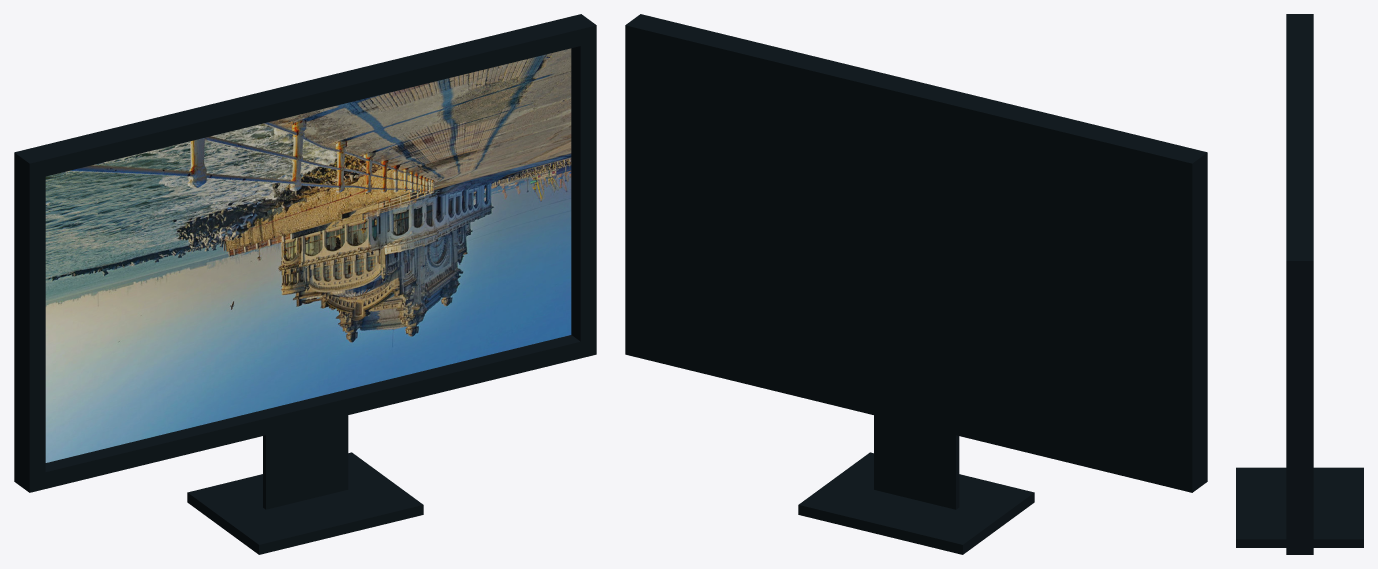
File: screen5.glb
3 views of the same model, side by side, from view 1: azimuth 30°, elevation 25°; view 2: azimuth 150°, elevation 25°; view 3: azimuth 270°, elevation 25° (orthographic). The views are drawn at different scales.
Visible parts, largest first — view 1: Screen; view 2: Screen; view 3: Screen.
Part boxes in pixels (left/top/right/bottom): Screen: left=14, top=14, right=596, bottom=554; Screen: left=625, top=14, right=1207, bottom=554; Screen: left=1236, top=14, right=1363, bottom=554.
Size of the model in its own units: 2.12 by 1.5 by 0.464.
2 materials, 1 textured.
